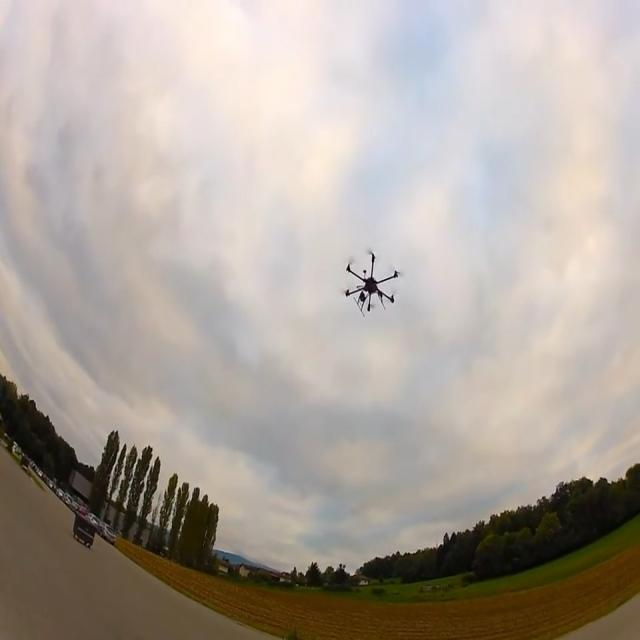drone: (343, 250, 401, 316)
